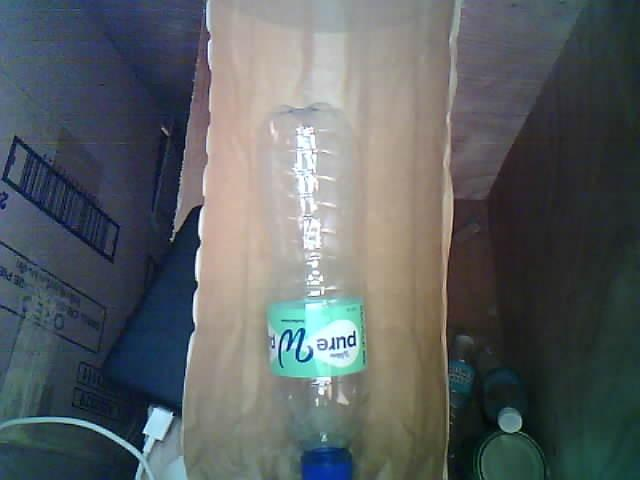small_bottle: (247, 95, 399, 480)
